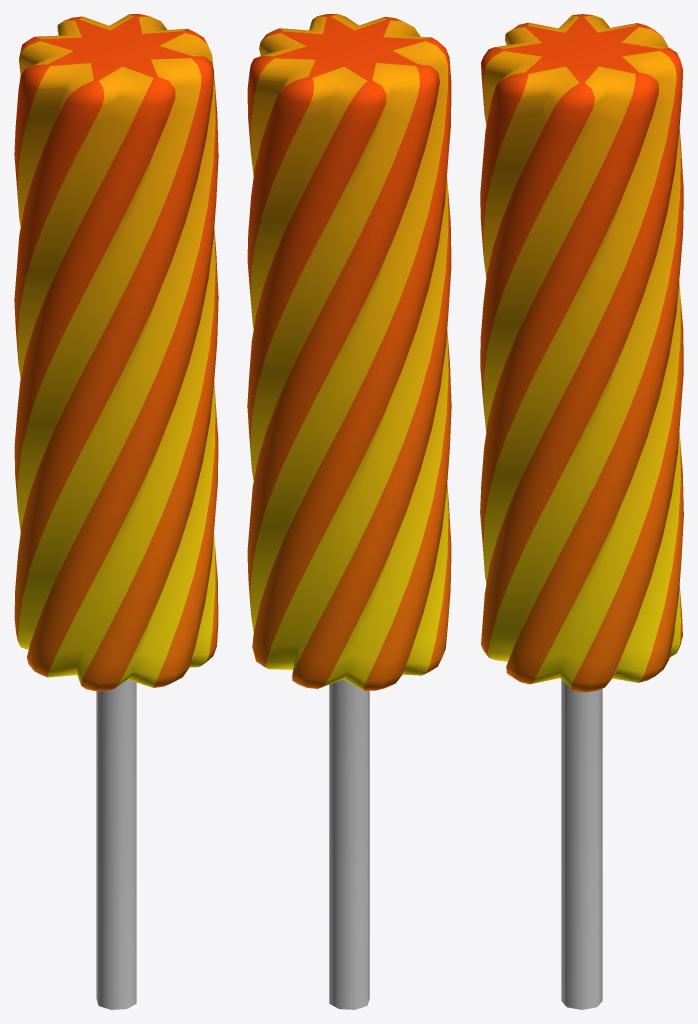
Rendered from ice_cream_002.glb.
The picture shows the model from 3 angles, left to right: view 1: azimuth 30°, elevation 25°; view 2: azimuth 150°, elevation 25°; view 3: azimuth 270°, elevation 25°; orthographic projection.
Parts seen in each view (by area): view 1: ice_cream_002; view 2: ice_cream_002; view 3: ice_cream_002.
Boxes of the visible parts, x1,y1,x2,y2 form: ice_cream_002: (14,14,218,1009); ice_cream_002: (247,14,451,1009); ice_cream_002: (480,14,683,1009).
Bounding box in the file's own units: 1.43 × 7.37 × 1.43.
Materials: 1 (1 with a texture image).
